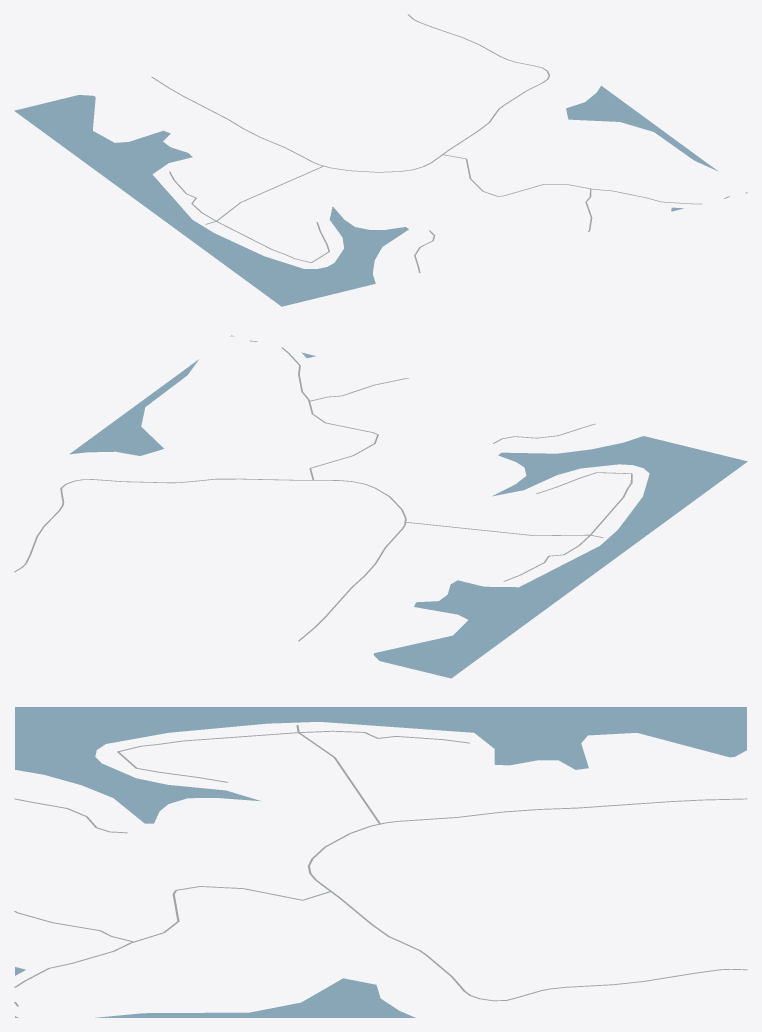
File: -8_8-known-fine.glb
3 renders of one model, top to bottom at view 1: azimuth 30°, elevation 25°; view 2: azimuth 150°, elevation 25°; view 3: azimuth 270°, elevation 25°, orthographic. The views are drawn at different scales.
Bounding box in the file's own units: 1000 × 0.1 × 998.
